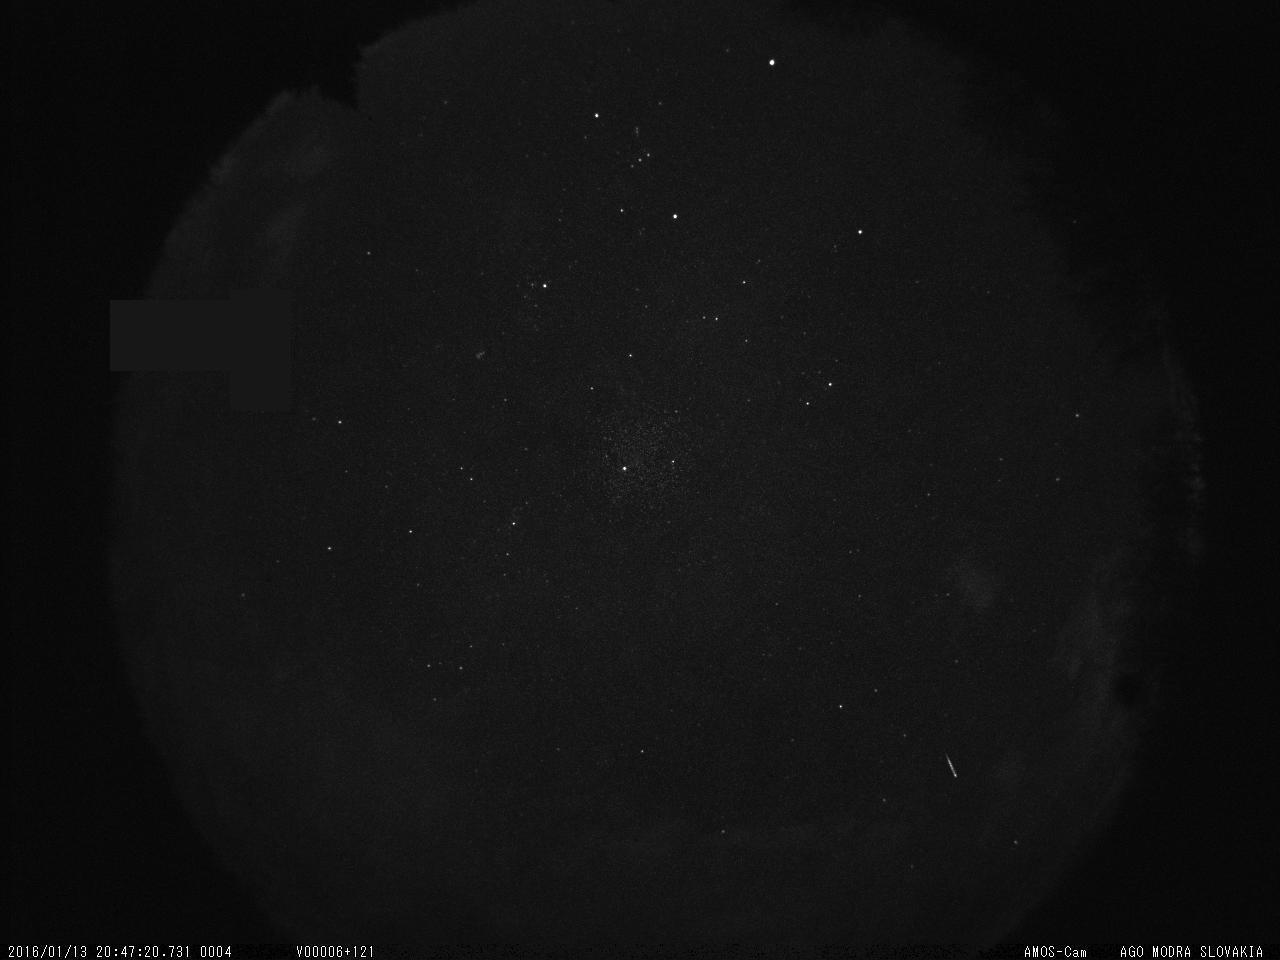meteor: (937, 744, 968, 787)
